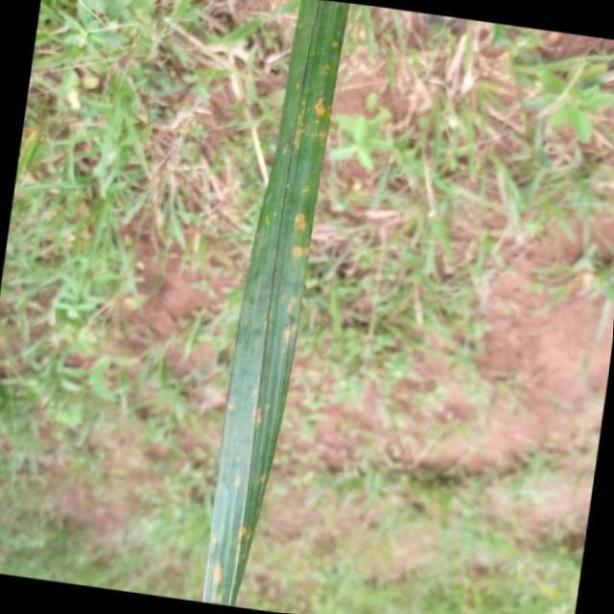Kalium: (198, 0, 346, 610)
